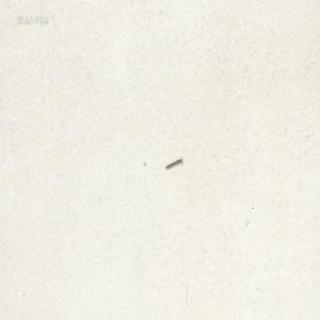Bolttrack_idkeyframe: (164, 154, 181, 166)
